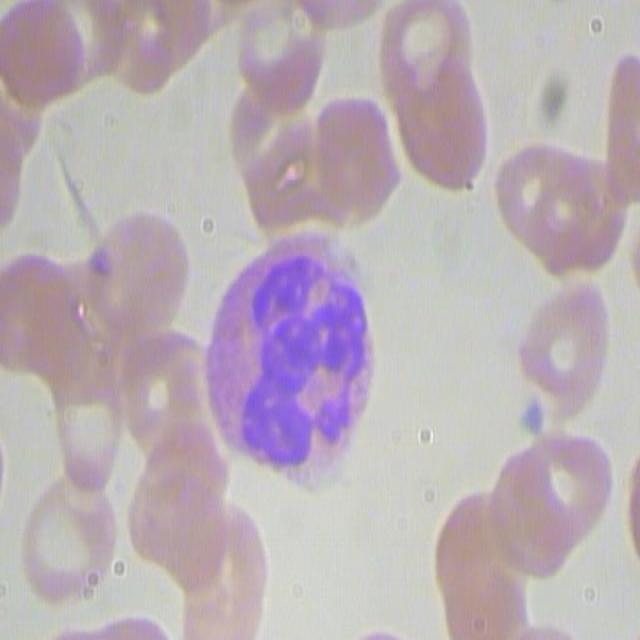RBC: (121, 412, 238, 586), (486, 421, 608, 576), (494, 145, 626, 284), (78, 208, 191, 344), (429, 490, 526, 638), (303, 93, 402, 236), (386, 64, 492, 196), (172, 503, 270, 640), (82, 1, 214, 99), (20, 478, 118, 608), (514, 278, 608, 412), (0, 0, 92, 116), (374, 0, 477, 101), (231, 2, 330, 107), (604, 44, 640, 204)
WBC: (202, 228, 378, 499), (7, 263, 145, 429)
